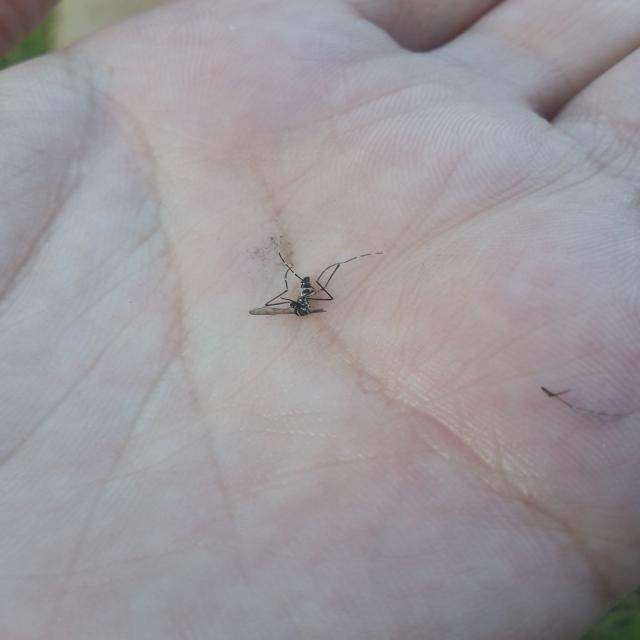albopictus: (236, 239, 384, 322)
